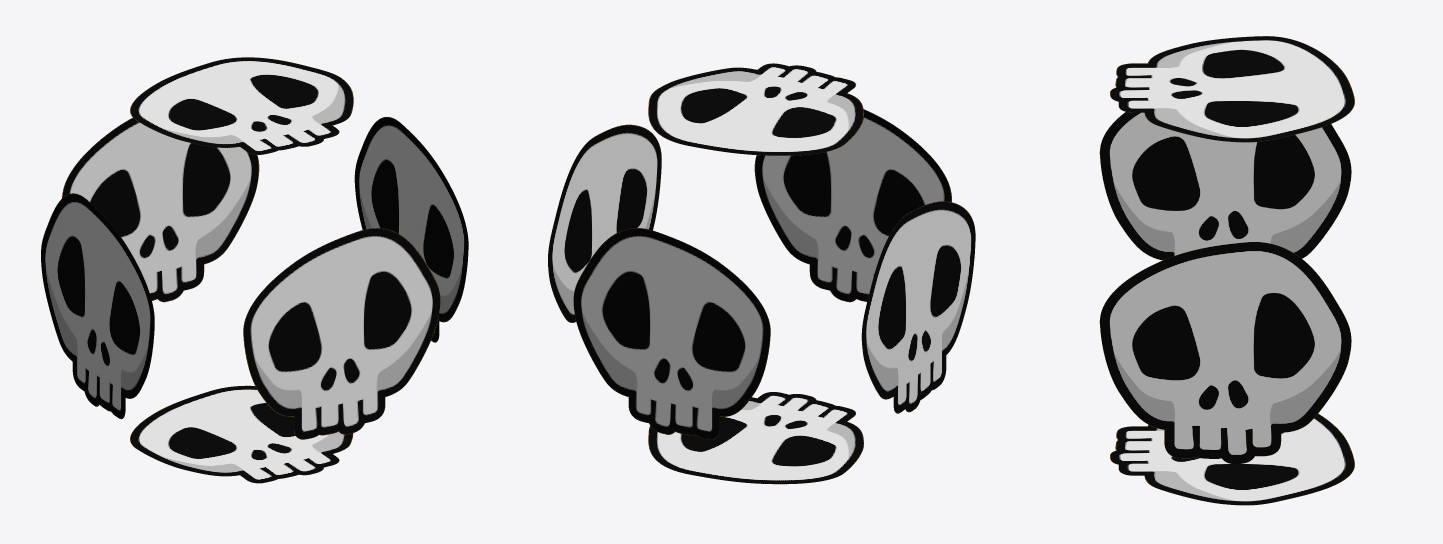
File: Die Box.fbx
3 views of the same model, side by side, from view 1: azimuth 30°, elevation 25°; view 2: azimuth 150°, elevation 25°; view 3: azimuth 270°, elevation 25° (orthographic). The views are drawn at different scales.
Parts seen in each view (by area): view 1: Cube; view 2: Cube; view 3: Cube.
Boxes of the visible parts, x1,y1,x2,y2 form: Cube: [41, 57, 468, 483]; Cube: [548, 63, 975, 484]; Cube: [1099, 36, 1354, 505].
Size of the model in its own units: 200 by 200 by 200.
1 material, 1 textured.
